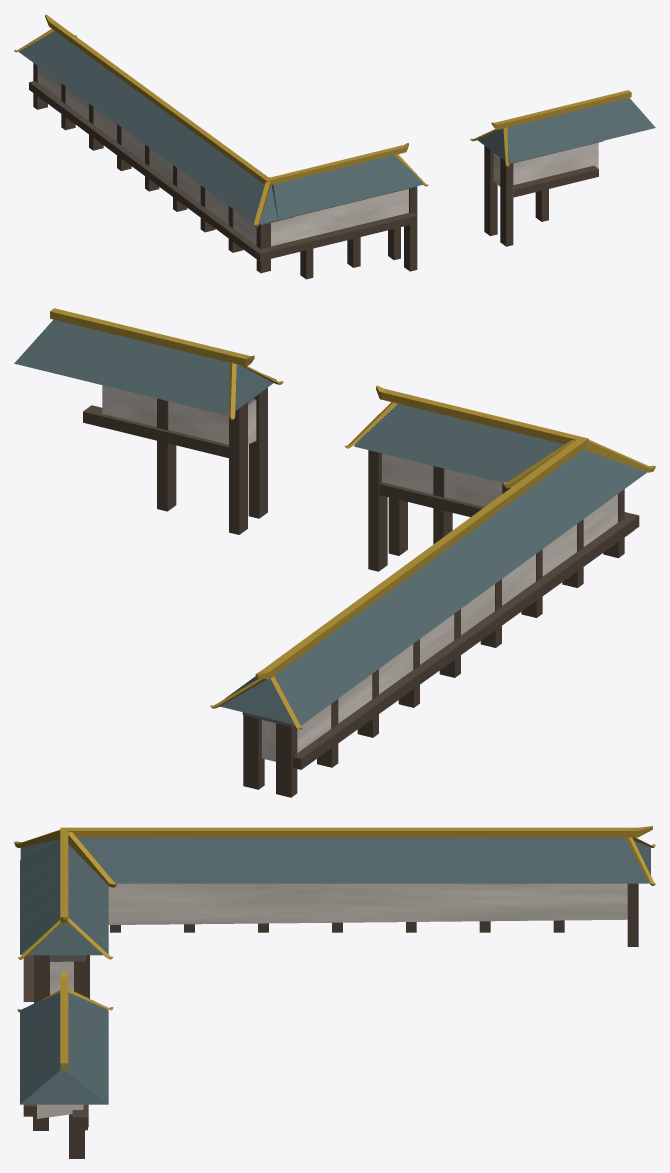
Rendered from lvl_4_B.fbx.
3 renders of one model, top to bottom at view 1: azimuth 30°, elevation 25°; view 2: azimuth 150°, elevation 25°; view 3: azimuth 270°, elevation 25°, orthographic. The views are drawn at different scales.
Visible parts, largest first — view 1: lvl_4_B; view 2: lvl_4_B; view 3: lvl_4_B.
Boxes of the visible parts, box(x1,y1,x2,y2) form: lvl_4_B: box(14, 14, 655, 279); lvl_4_B: box(14, 308, 655, 797); lvl_4_B: box(14, 826, 655, 1158).
Bounding box in the file's own units: 1436 × 401 × 1496.
